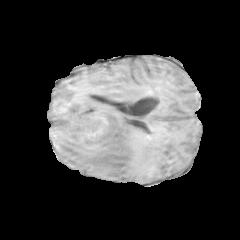glioma: (51, 92, 150, 175)
